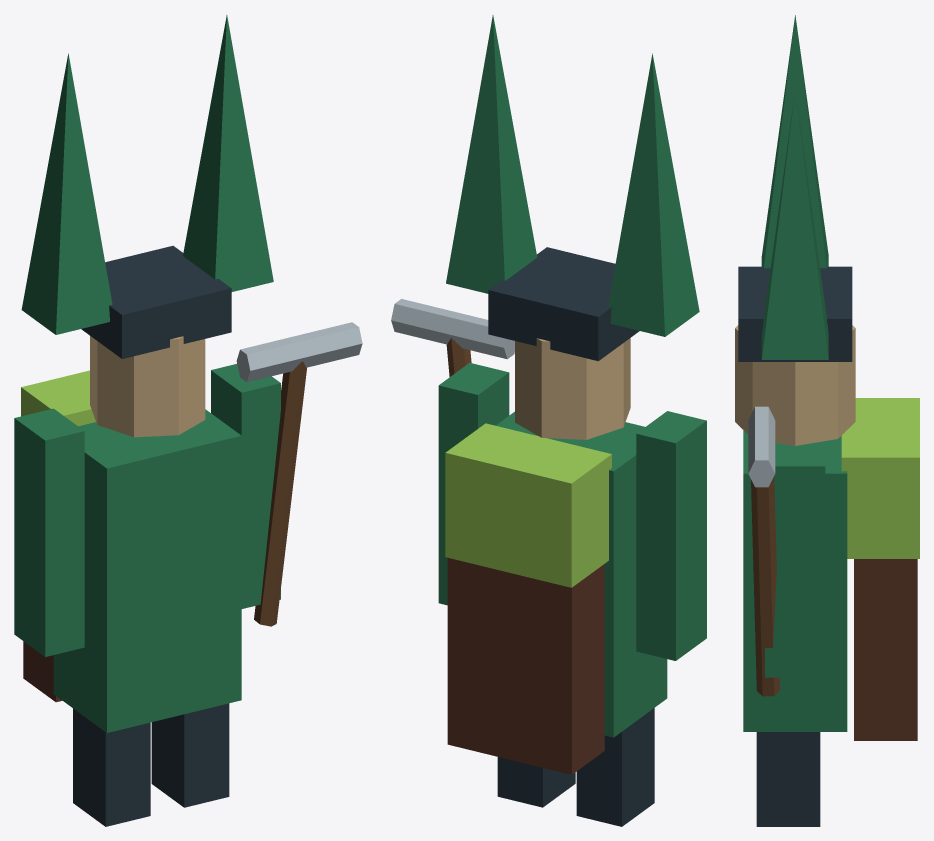
Rendered from worker.obj.
The picture shows the model from 3 angles, left to right: view 1: azimuth 30°, elevation 25°; view 2: azimuth 150°, elevation 25°; view 3: azimuth 270°, elevation 25°; orthographic projection. The views are drawn at different scales.
Parts seen in each view (by area): view 1: worker; view 2: worker; view 3: worker.
Part boxes in pixels (<box>): worker: <box>14,15,362,826</box>; worker: <box>391,15,706,826</box>; worker: <box>735,15,919,826</box>.
Size of the model in its own units: 0.935 by 2.21 by 0.497.
